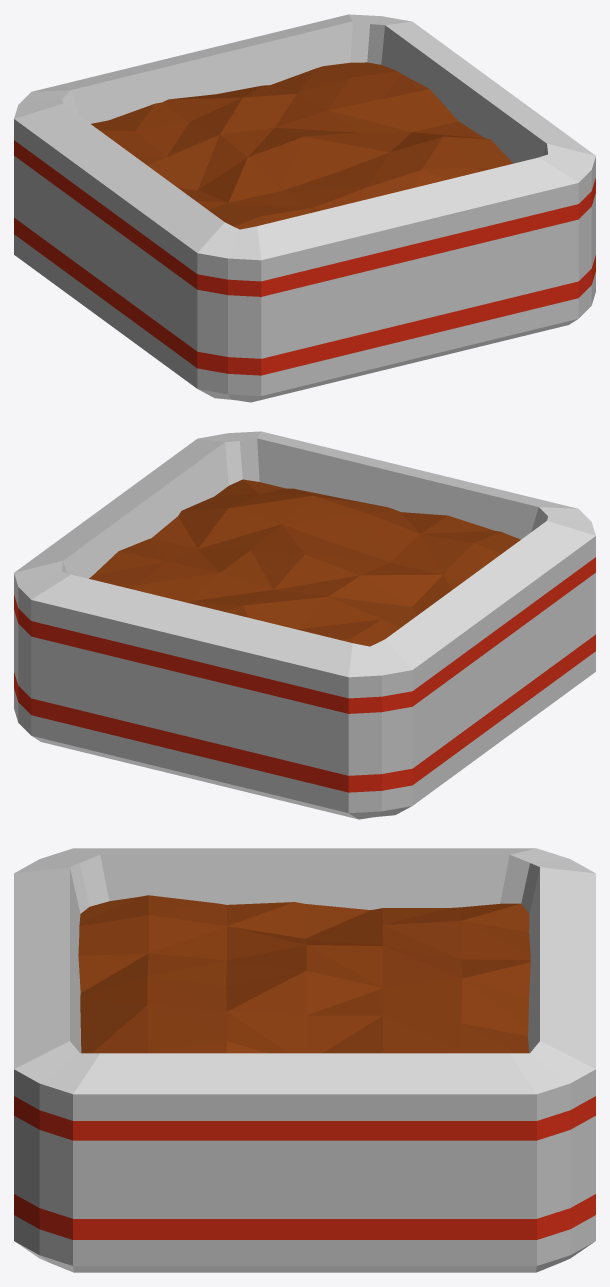
Rendered from Tree Crop Plot.fbx.
3 views of the same model, one above another, from view 1: azimuth 30°, elevation 25°; view 2: azimuth 150°, elevation 25°; view 3: azimuth 270°, elevation 25° (orthographic). The views are drawn at different scales.
Visible parts, largest first — view 1: Plane; view 2: Plane; view 3: Plane.
Part boxes in pixels (<box>): Plane: <box>14,14,595,402</box>; Plane: <box>14,431,595,819</box>; Plane: <box>14,848,595,1272</box>.
Size of the model in its own units: 354 by 145 by 354.
